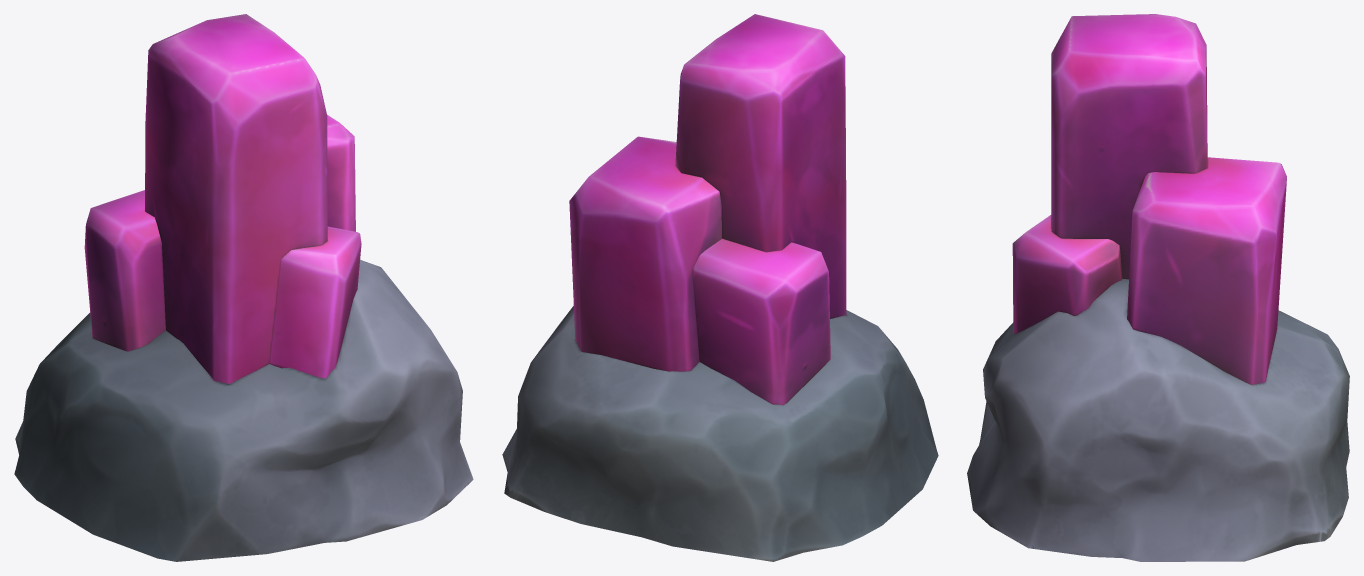
File: SM_Gem_Kunzite_001.fbx
The picture shows the model from 3 angles, left to right: view 1: azimuth 30°, elevation 25°; view 2: azimuth 150°, elevation 25°; view 3: azimuth 270°, elevation 25°; orthographic projection. The views are drawn at different scales.
Visible parts, largest first — view 1: SM_Gem_Kunzite_001; view 2: SM_Gem_Kunzite_001; view 3: SM_Gem_Kunzite_001.
Part boxes in pixels (x1,y1,x2,y2): SM_Gem_Kunzite_001: (14, 14, 473, 561); SM_Gem_Kunzite_001: (502, 14, 938, 561); SM_Gem_Kunzite_001: (967, 14, 1349, 561).
Bounding box in the file's own units: 57.8 × 64.8 × 52.49.
